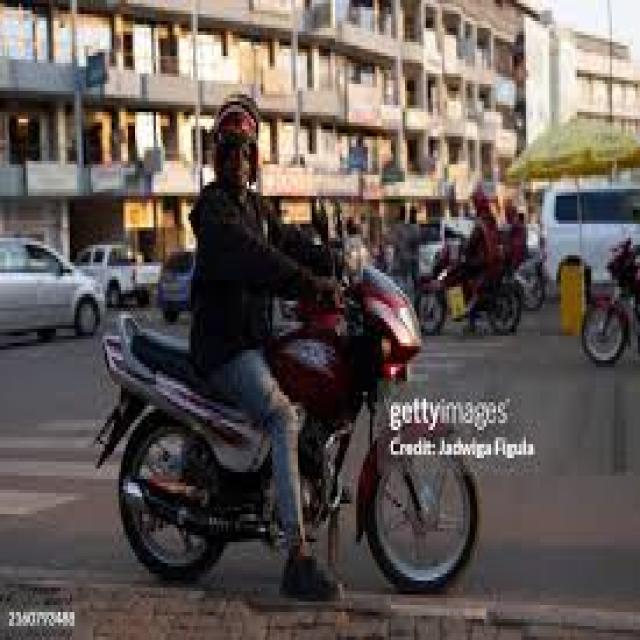bodaboda: (39, 183, 547, 621)
